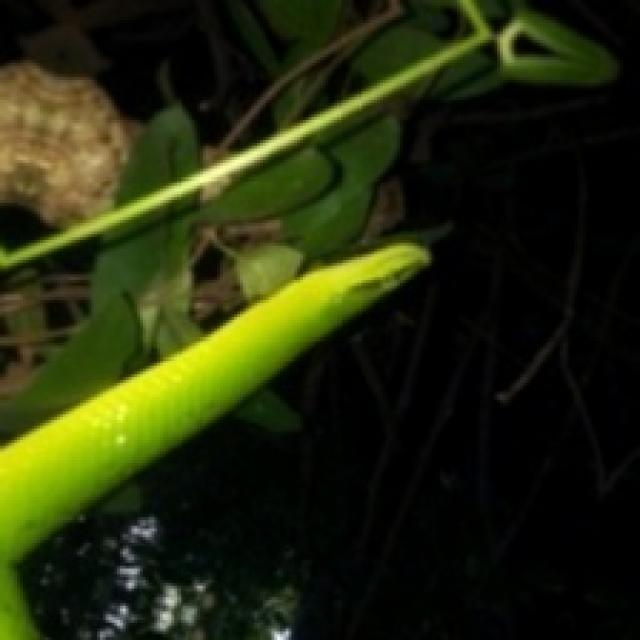red-tailed green ratsnake: (0, 243, 429, 637)
